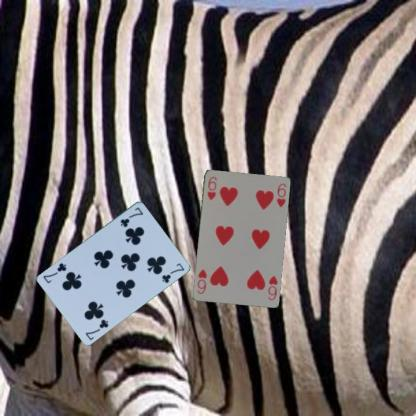6h: (265, 272, 279, 302), (204, 174, 218, 201)
7c: (82, 317, 110, 341), (118, 204, 144, 228)
